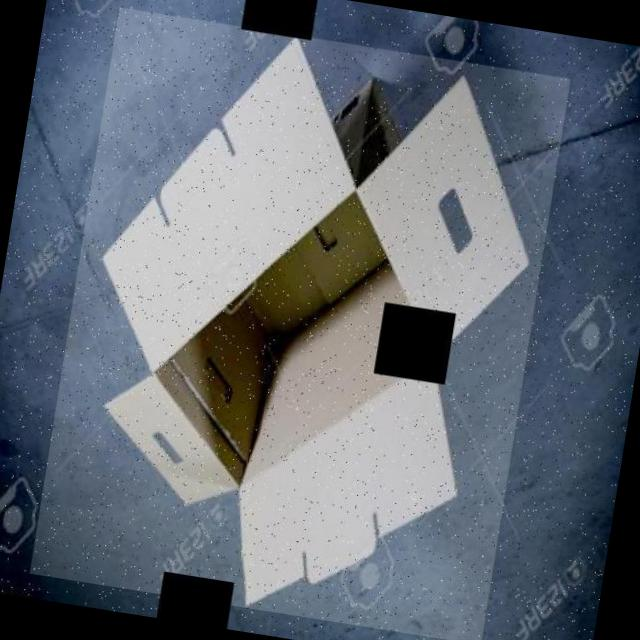box: (29, 7, 570, 640)
